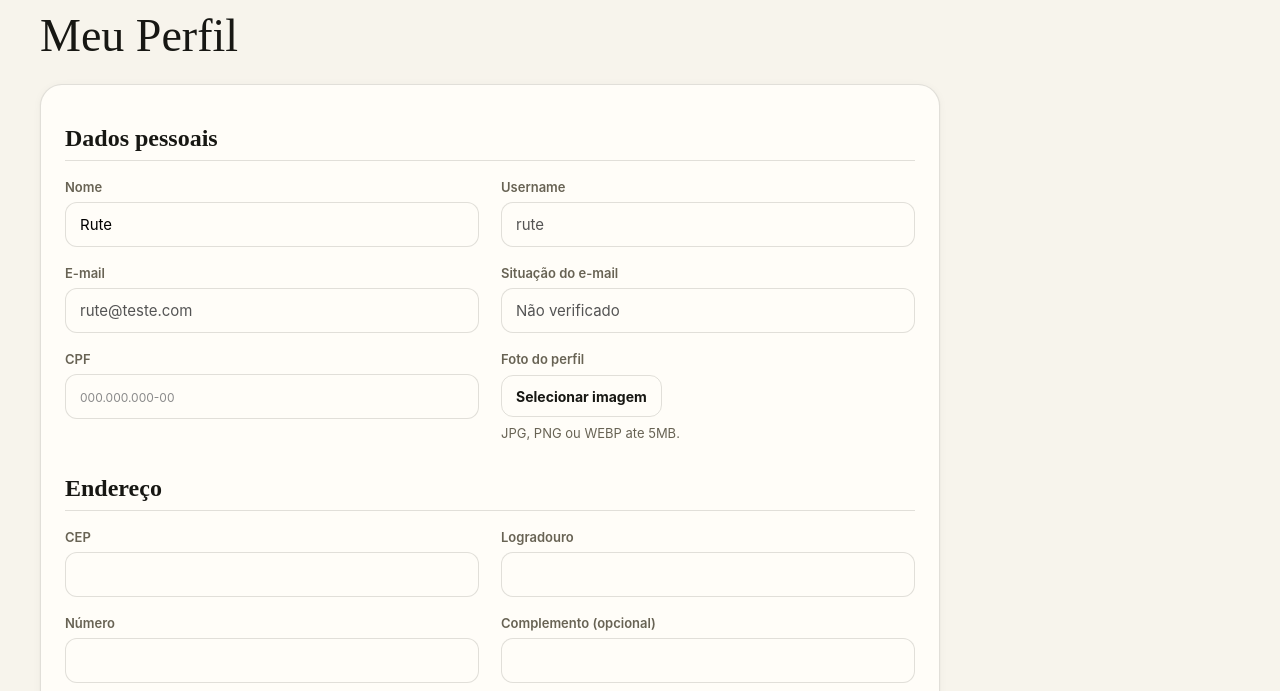
Test: autopreenchimento de endereco pelo CEP (ViaCEP) › preenche logradouro, bairro, cidade e UF no perfil do usuario ao completar o CEP
The image size is (1280, 691).
Type "58400550" into the field labelled "CEP".
click(272, 574); type("58400550")  # box [65, 552, 479, 597]
(page scrolled)
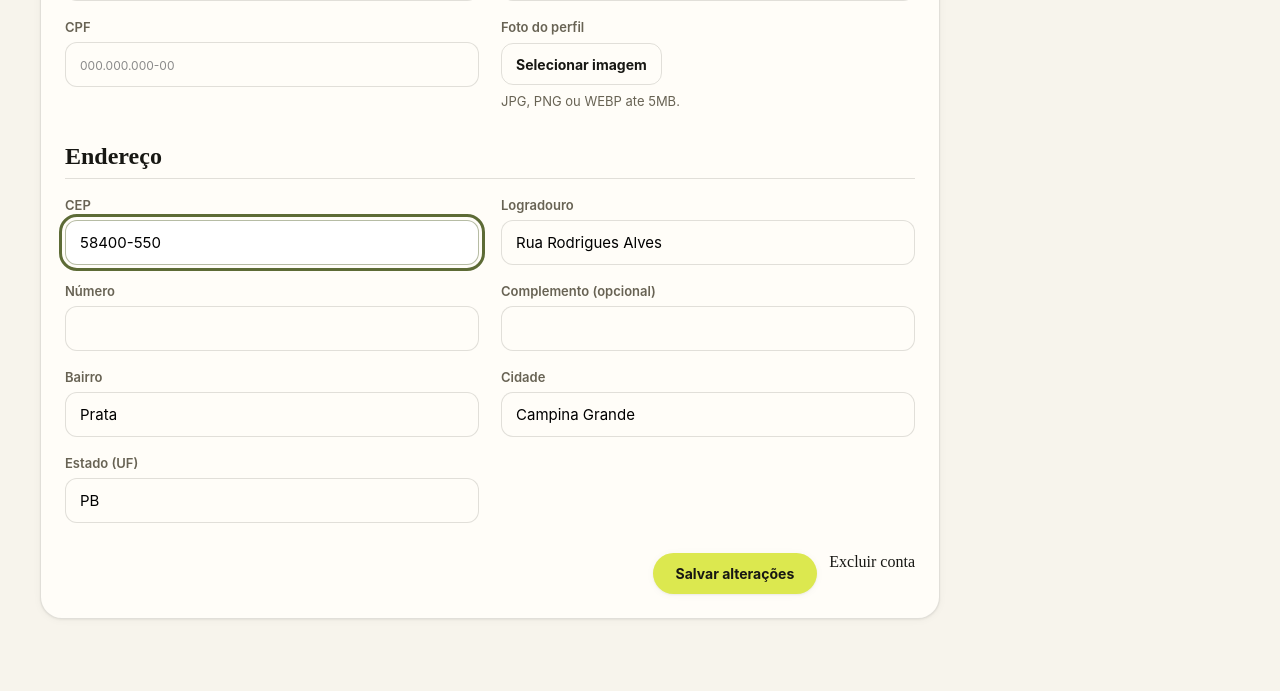
Expected: the field labelled "Logradouro" holds "Rua Rodrigues Alves", [501, 220, 915, 265]
Expected: the field labelled "Bairro" holds "Prata", [65, 392, 479, 437]
Expected: the field labelled "Cidade" holds "Campina Grande", [501, 392, 915, 437]
